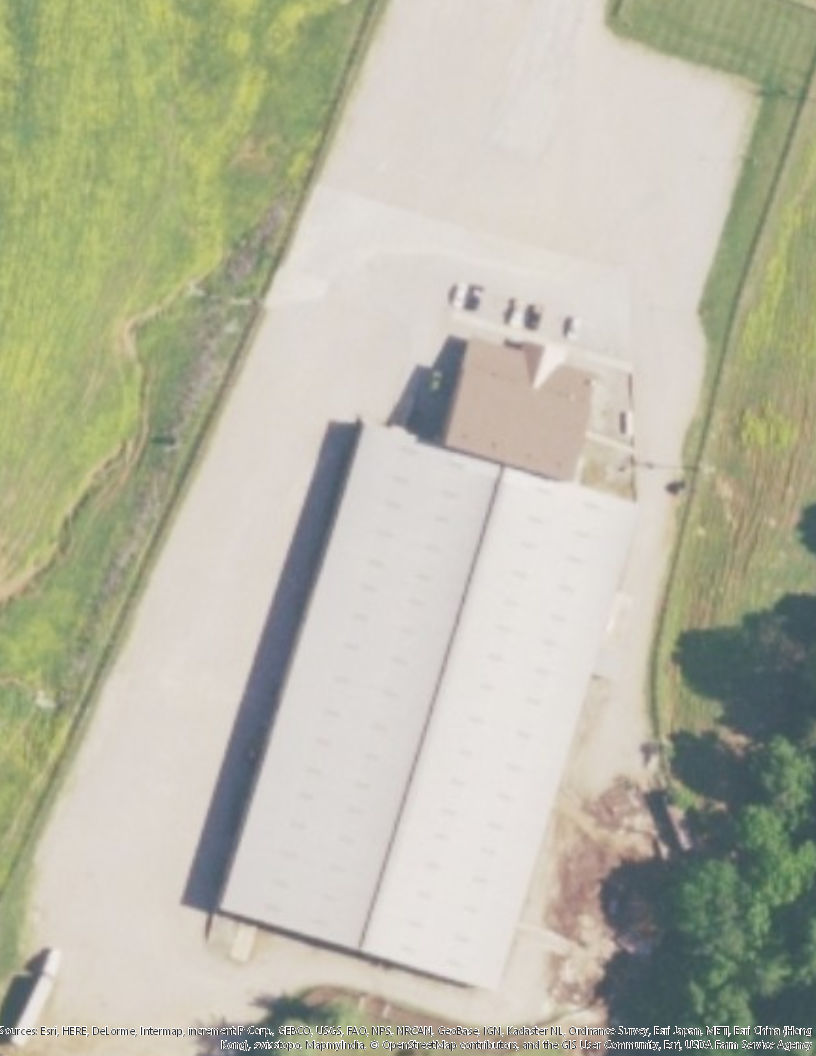cafo: (202, 282, 685, 1008)
